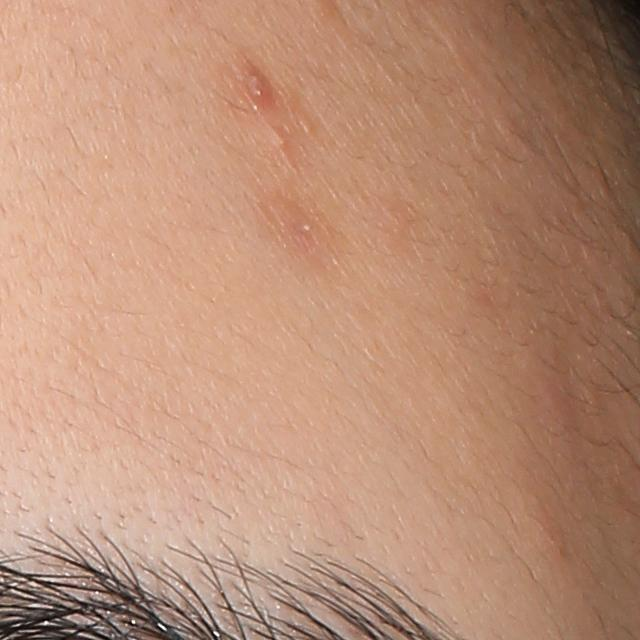papule: (235, 62, 275, 119)
